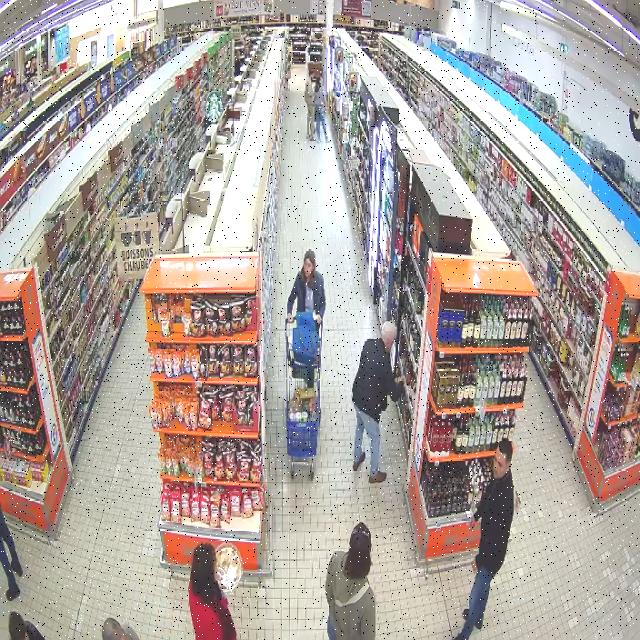hands: (466, 515, 478, 533), (471, 557, 478, 573), (313, 314, 322, 324), (287, 314, 295, 324)
person: (454, 437, 514, 639), (352, 321, 402, 482), (326, 522, 375, 639), (189, 543, 236, 639), (287, 249, 325, 324)
